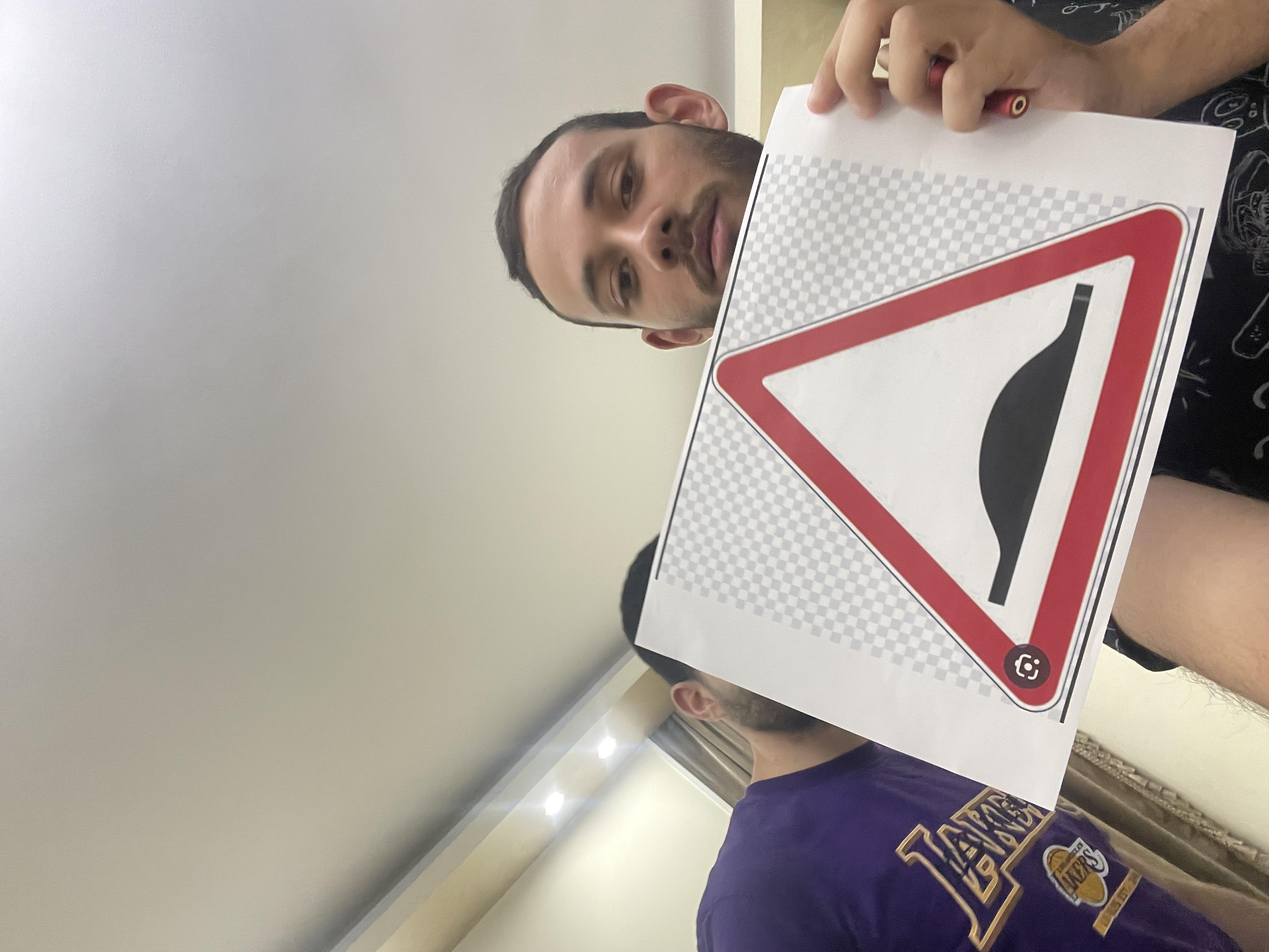Hump: (324, 541, 991, 891)
